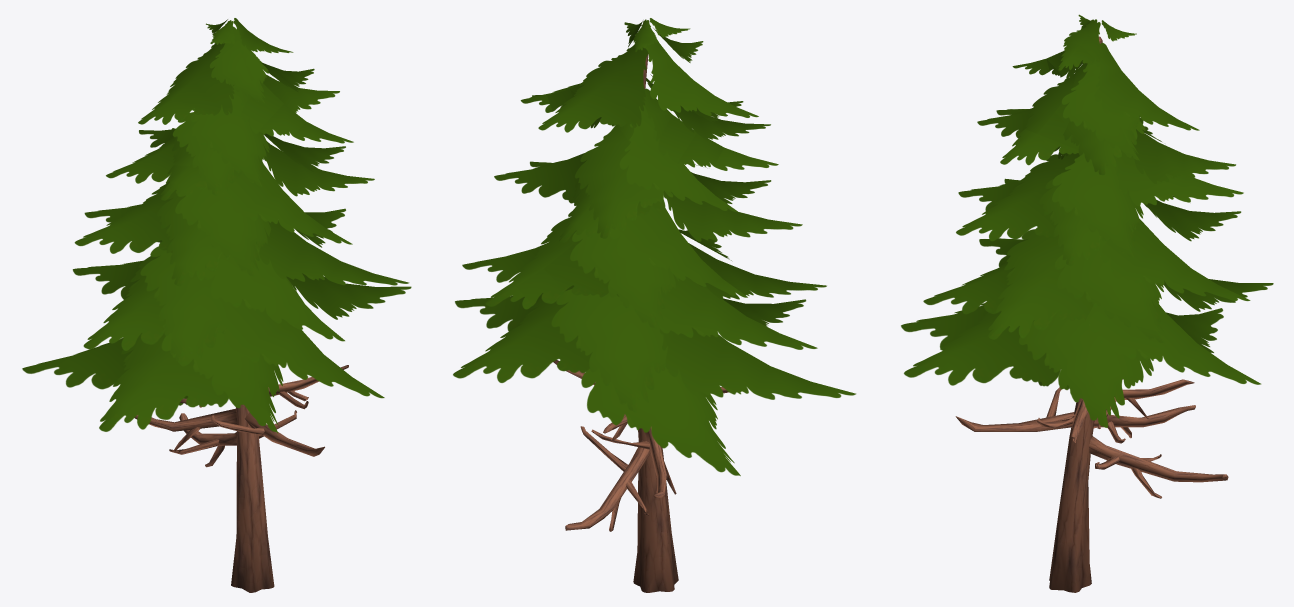
The model's file is nature.glb.
3 renders of one model, left to right at view 1: azimuth 30°, elevation 25°; view 2: azimuth 150°, elevation 25°; view 3: azimuth 270°, elevation 25°, orthographic. The views are drawn at different scales.
Parts seen in each view (by area): view 1: Pine_1; view 2: Pine_1; view 3: Pine_1.
Part boxes in pixels (<box>): Pine_1: <box>22,18,411,592</box>; Pine_1: <box>453,18,856,592</box>; Pine_1: <box>901,14,1273,592</box>.
Bounding box in the file's own units: 4.94 × 7.32 × 4.54.
Materials: 2 (2 with a texture image).
